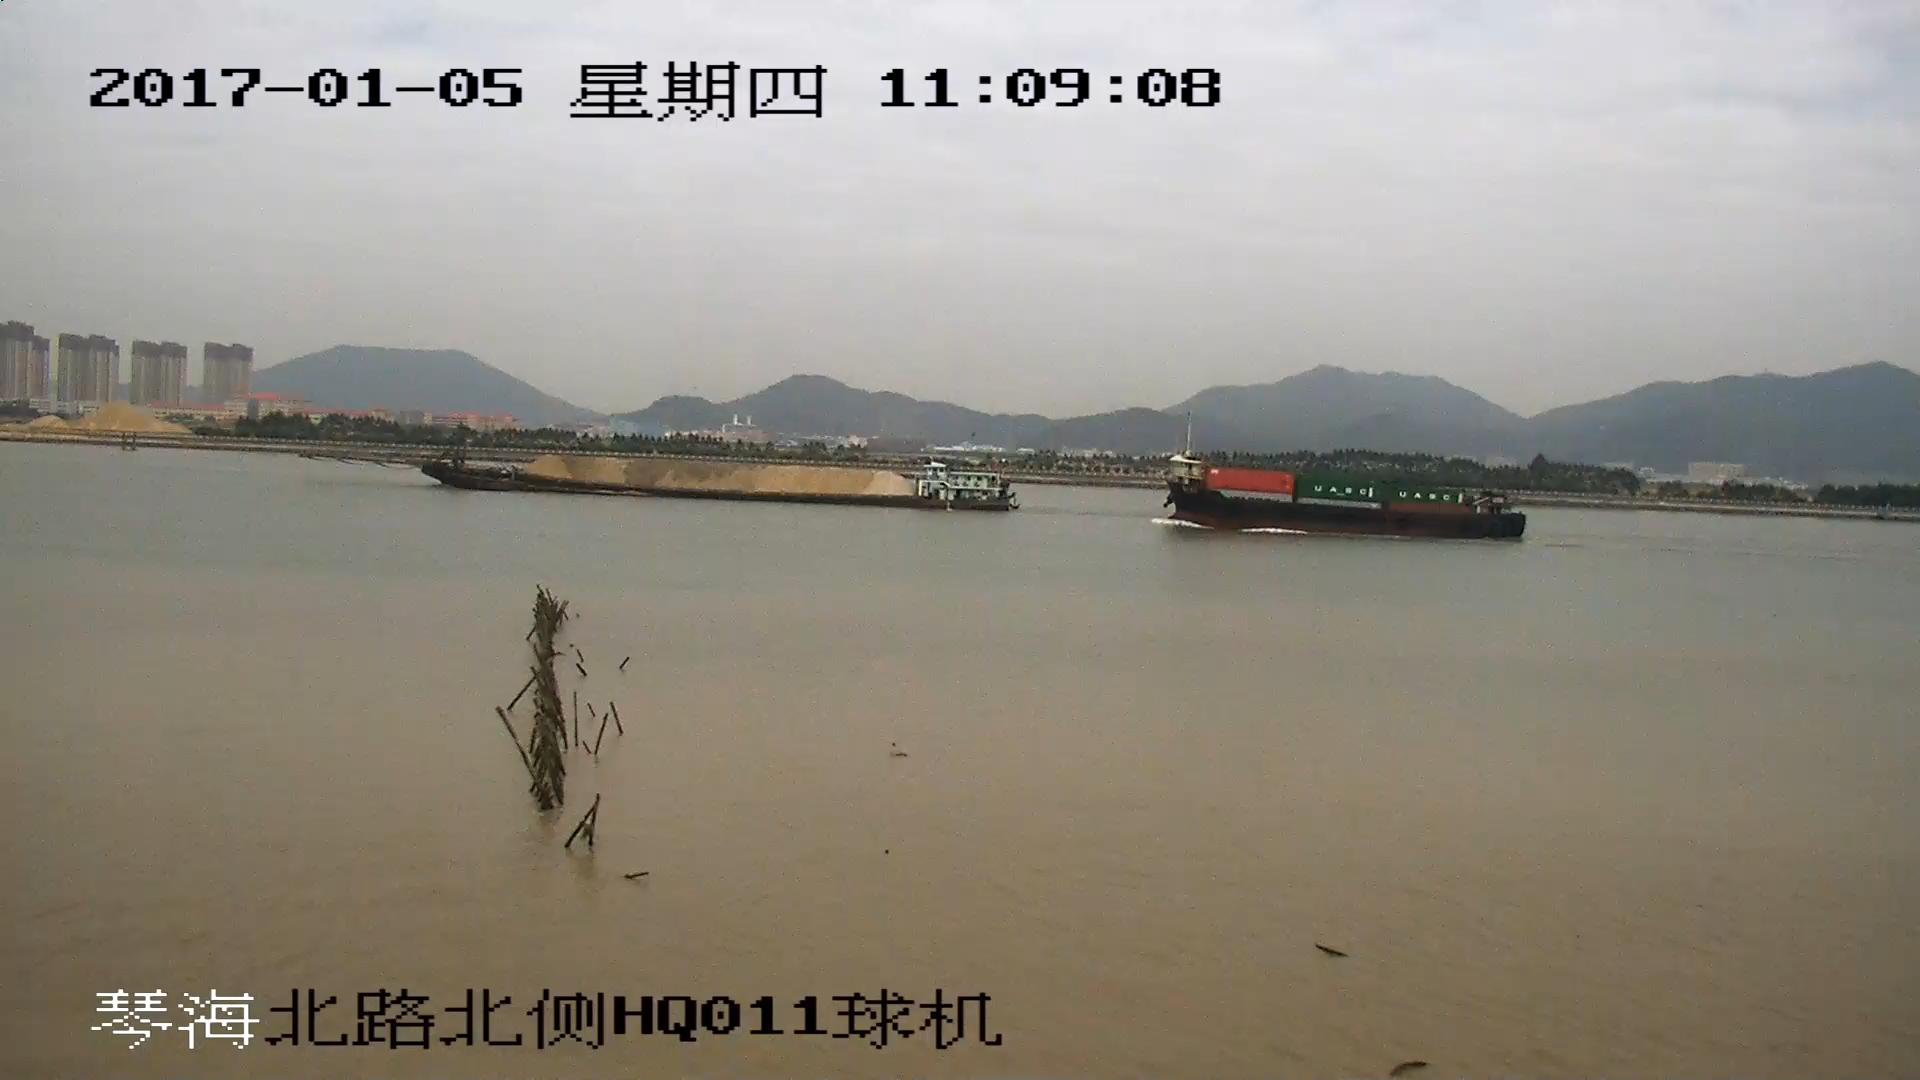container ship: (1166, 450, 1528, 537)
ore carrier: (337, 432, 1014, 508)
